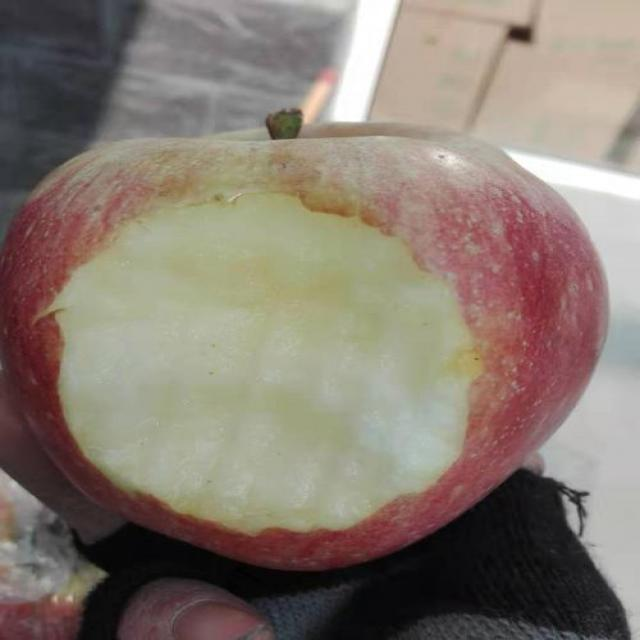Rotten: (2, 108, 612, 572)
